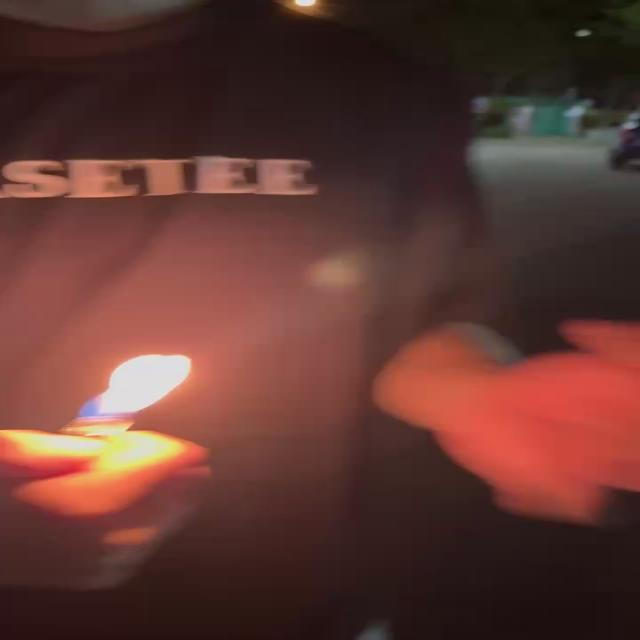Fire: (75, 351, 195, 422)
